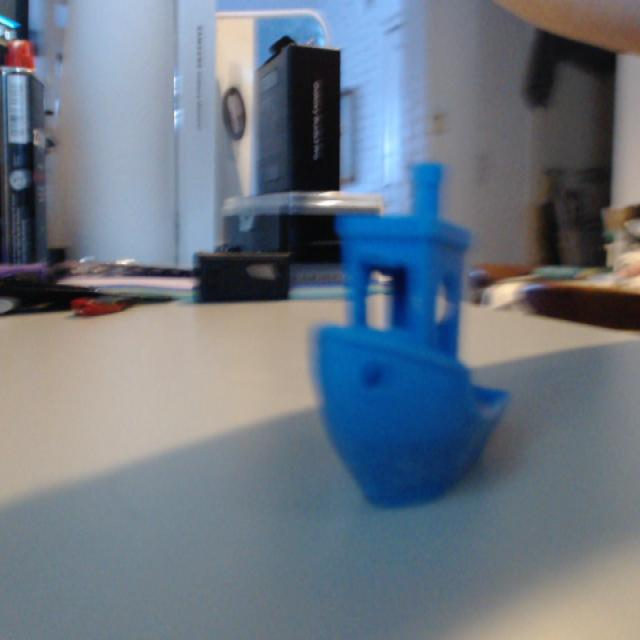benchy: (308, 156, 512, 509)
